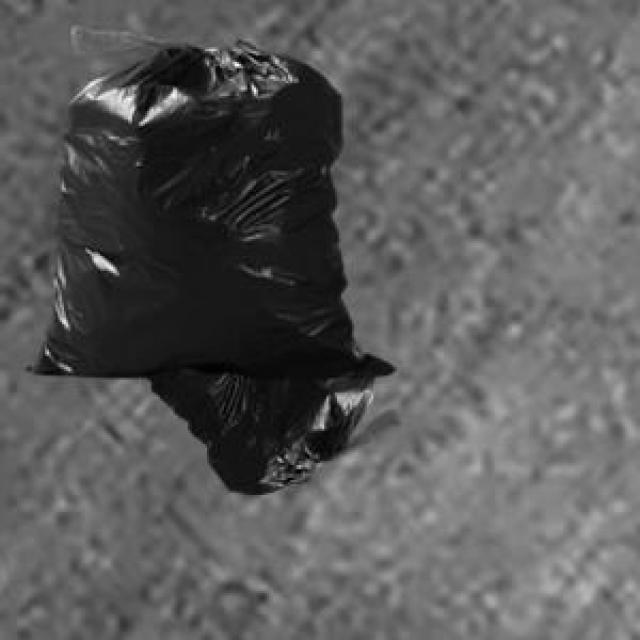miscellaneous trash: (21, 21, 390, 373), (140, 333, 399, 491)
